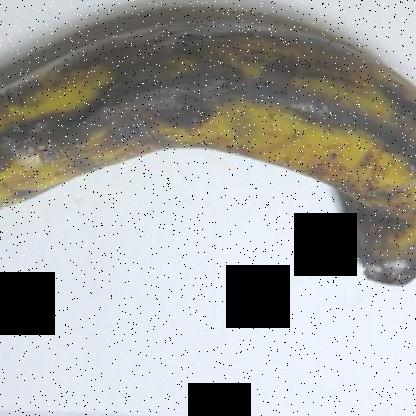overripe: (1, 1, 415, 316)
rotten: (332, 202, 415, 305)
